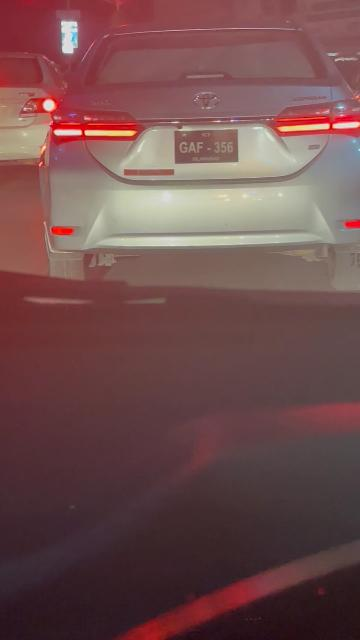plate: (175, 128, 236, 162)
